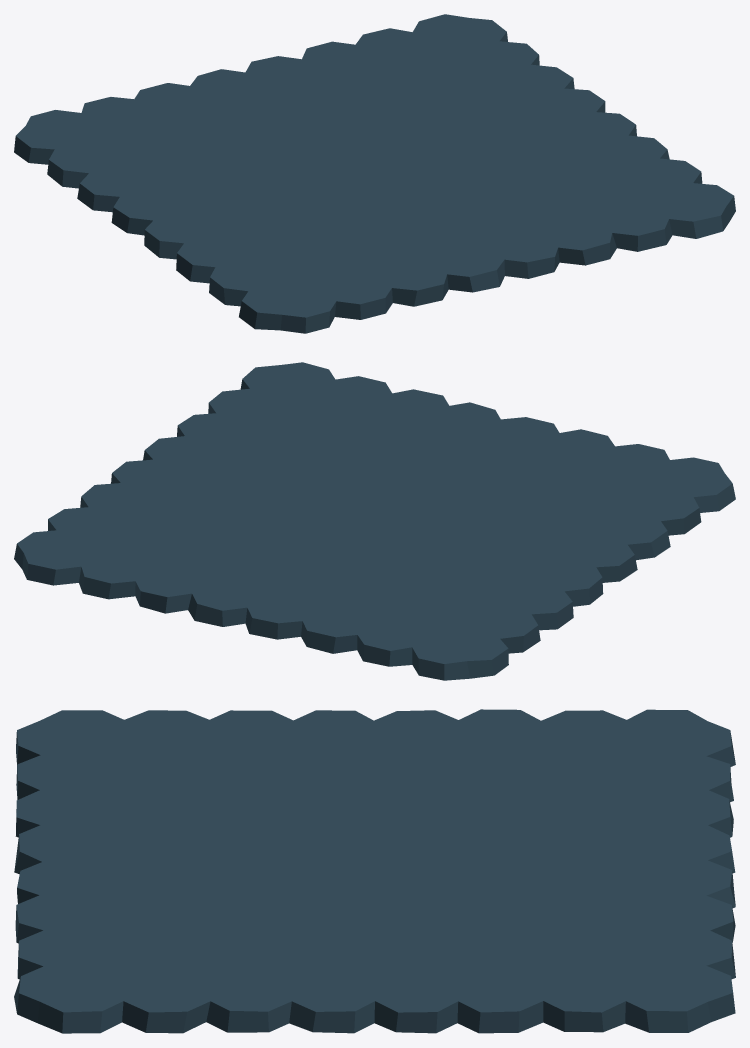
Rendered from SM_Prop_Gym_Mat_01.fbx.
3 views of the same model, one above another, from view 1: azimuth 30°, elevation 25°; view 2: azimuth 150°, elevation 25°; view 3: azimuth 270°, elevation 25° (orthographic). The views are drawn at different scales.
Visible parts, largest first — view 1: SM_Prop_Gym_Mat_01; view 2: SM_Prop_Gym_Mat_01; view 3: SM_Prop_Gym_Mat_01.
Part boxes in pixels (x1,y1,x2,y2): SM_Prop_Gym_Mat_01: [14, 14, 735, 333]; SM_Prop_Gym_Mat_01: [14, 362, 735, 680]; SM_Prop_Gym_Mat_01: [14, 709, 735, 1033].
Bounding box in the file's own units: 108 × 3.33 × 108.
